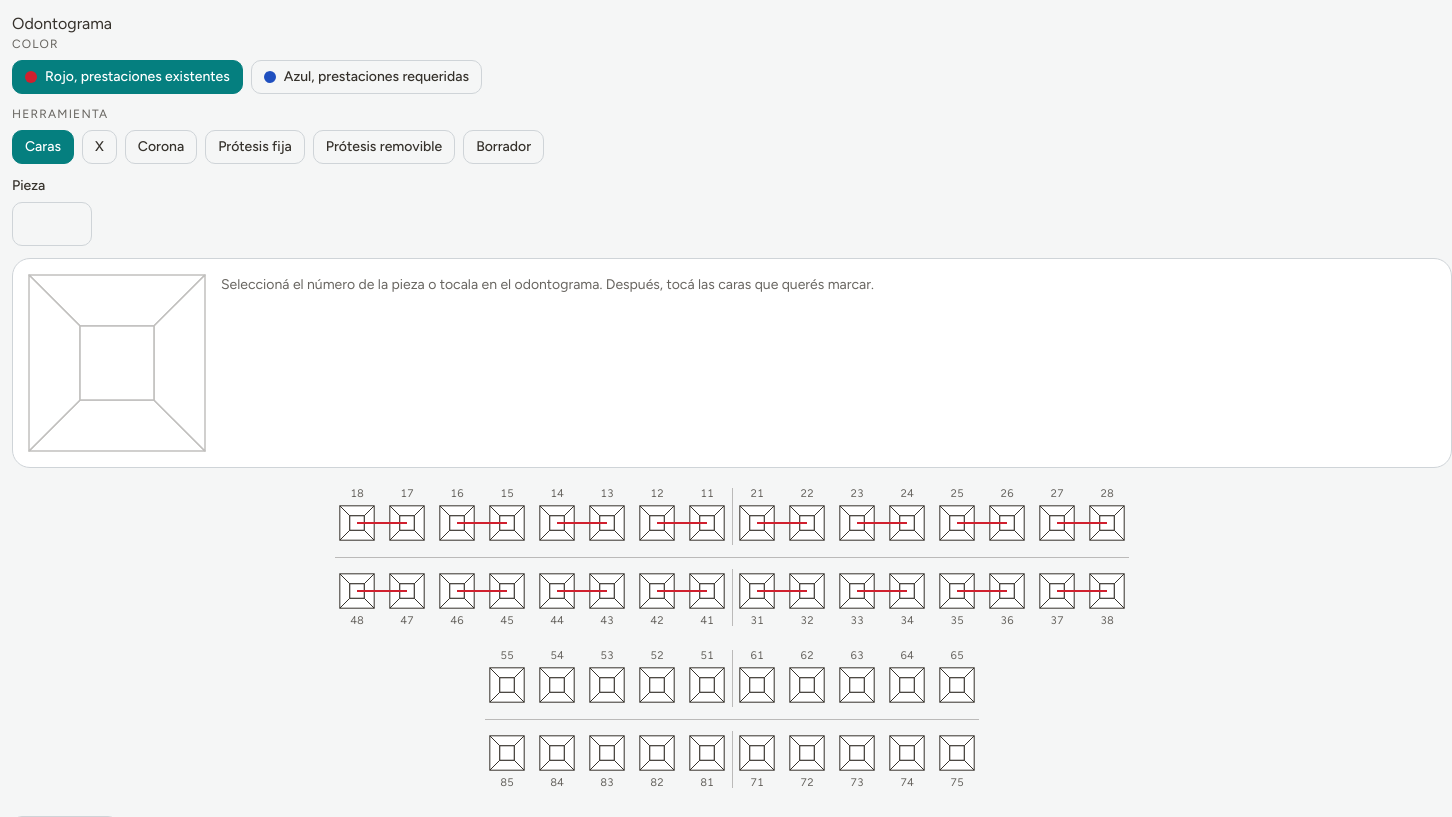
CampoOdontograma › las prótesis › no se empieza en una pieza de otra prótesis: el botón se apaga, con el motivo
This screenshot has width=1452, height=817.
Click the radio button labelled "Prótesis fija": [255, 147] box [205,130,305,164]
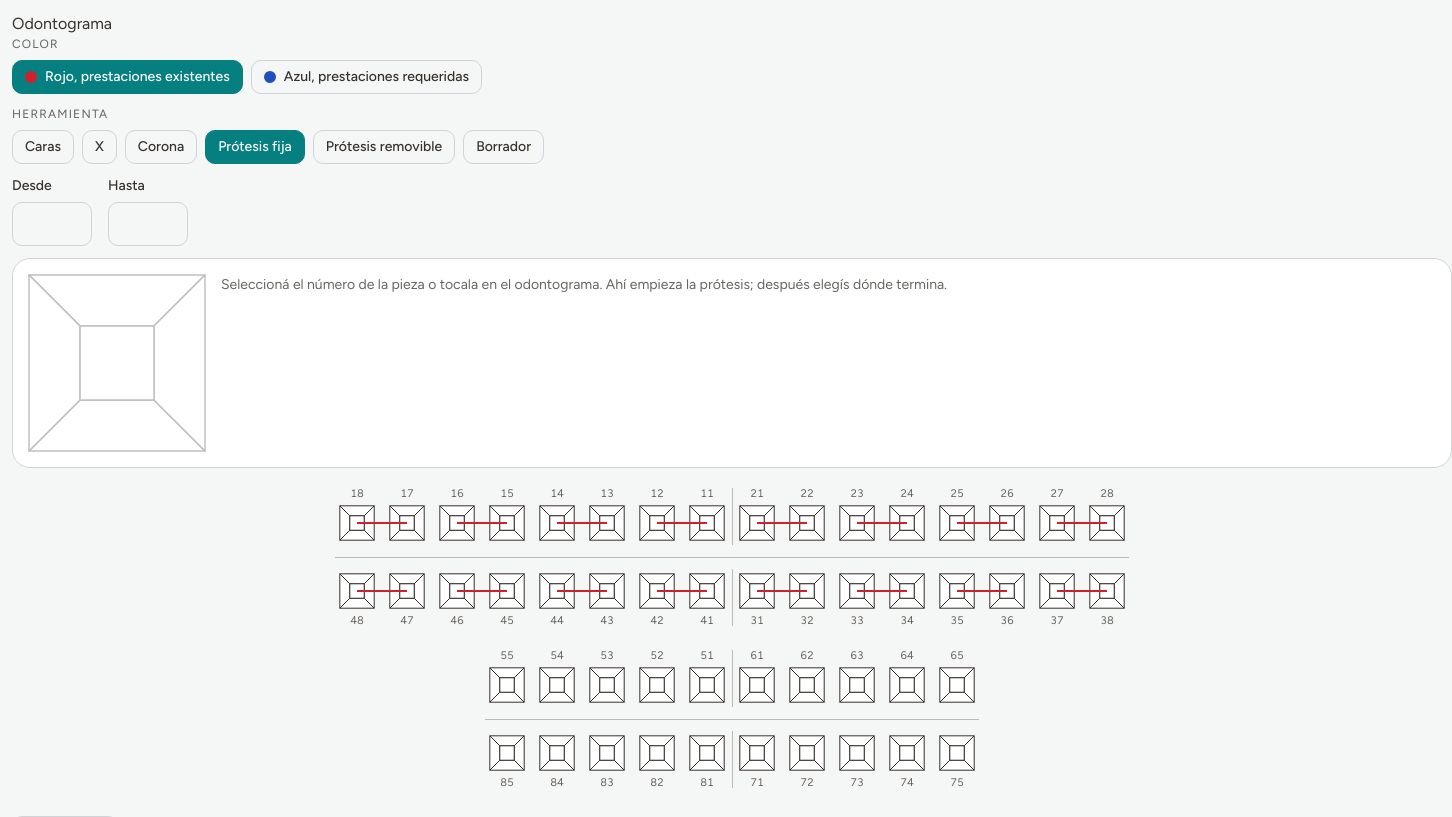
Click the button "47": [407, 598] box [385,569,429,626]
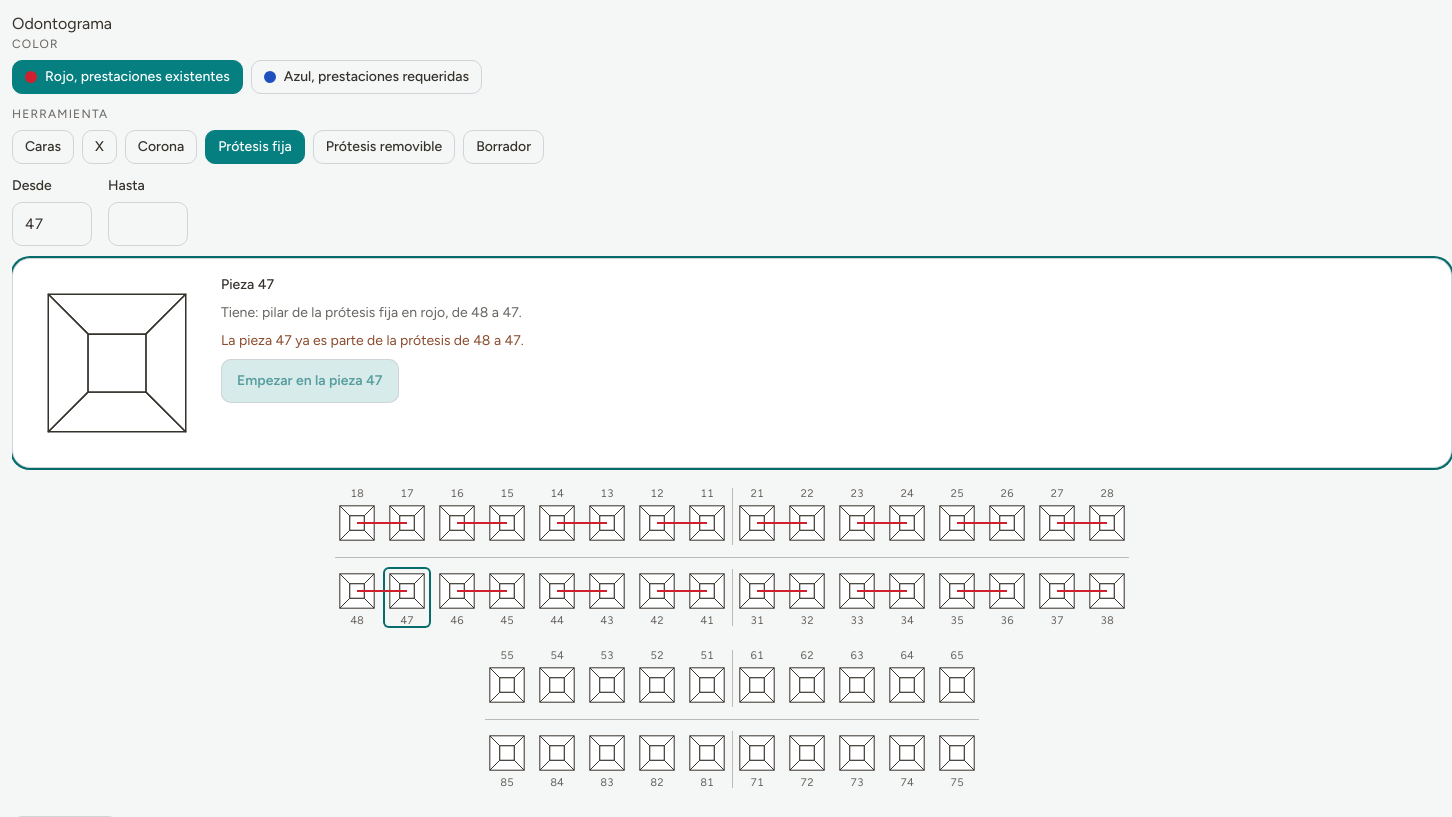
Result: the button "Empezar en la pieza 47" is disabled at [221,359,398,403]
